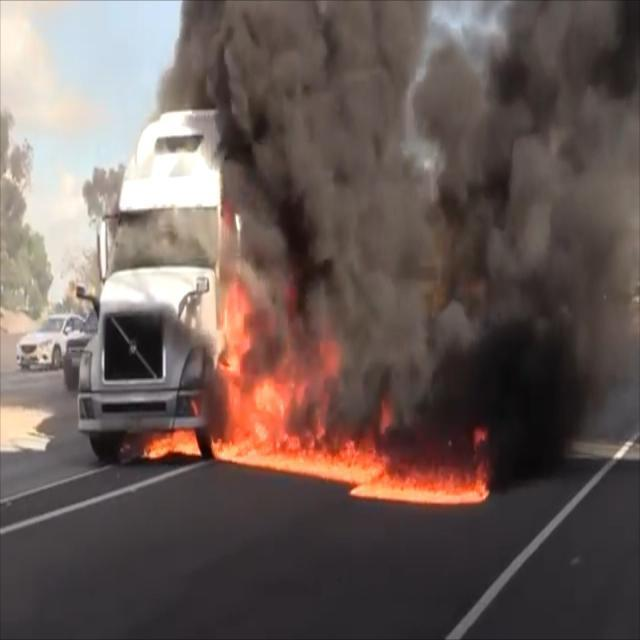fire: (153, 282, 503, 490)
